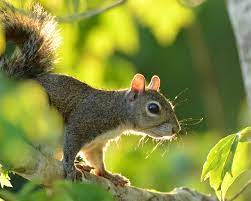squirrel: (14, 6, 182, 187)
